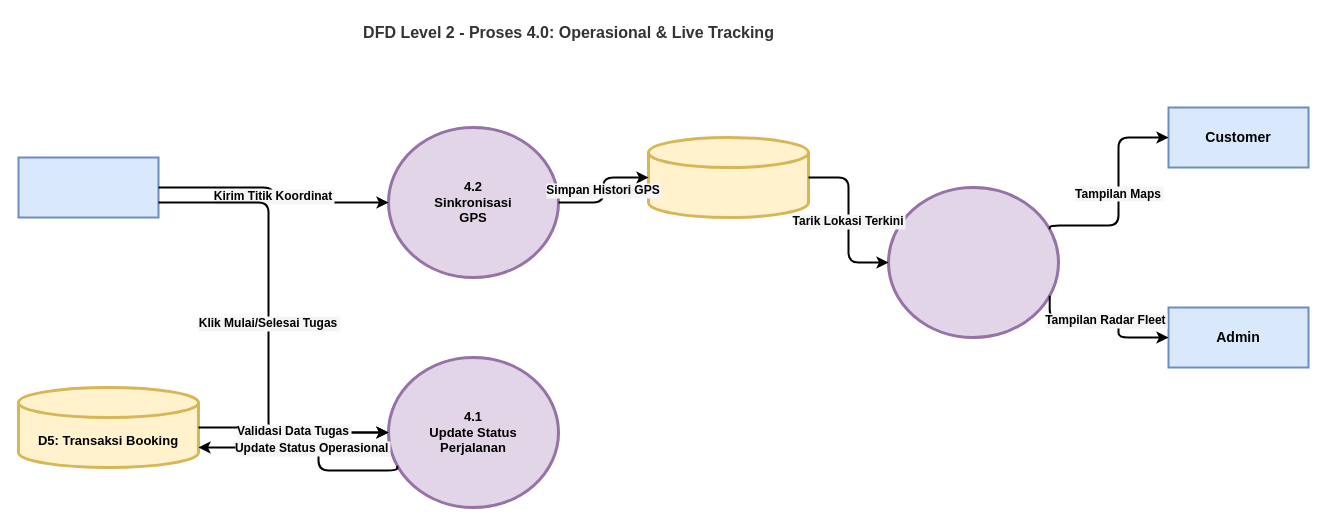
Some shapes in this 1327 by 526 pixel diagram are drawn without their labels. The shapes that lost their labels are listed below. From the top down, each one's centre as x and y in pixels, then its label:
(88,187): Driver
(728,177): D6: Log Tracking
(973,262): 4.3 Broadcast Lokasi
